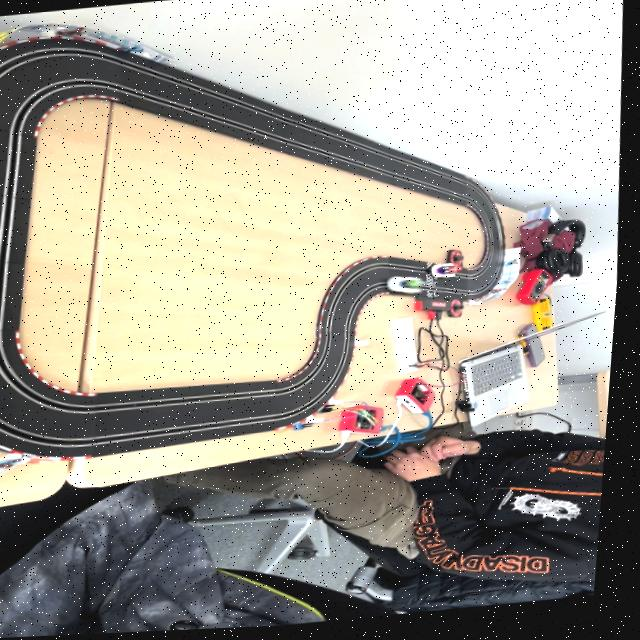mario: (433, 266, 469, 285)
yoshi: (388, 277, 432, 301)
